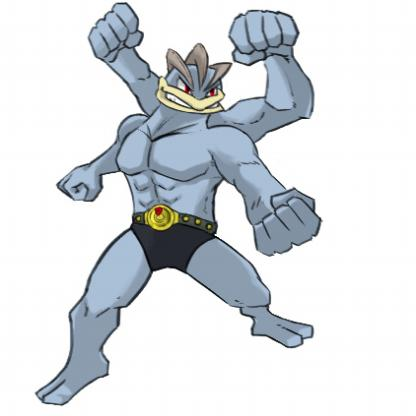Machamp: (31, 1, 338, 409)
